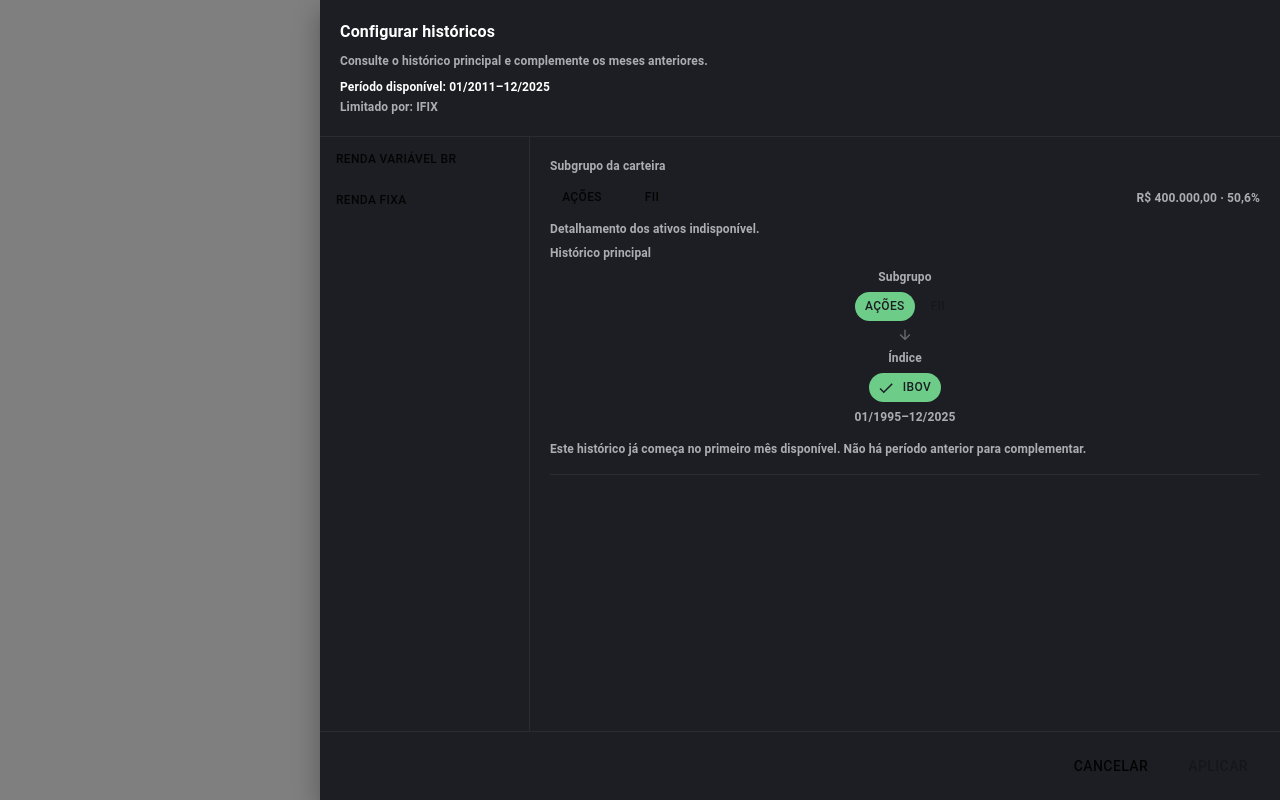
Test: groups portfolio subgroups under broad sidebar asset types
Expected: the tabs read "Renda variável BR", "Renda fixa", in this order, [328,145,521,174]; [328,186,521,215]
Expected: the button "Ações" in the row of "R$ 400.000,00 ·" is shown, [550,183,614,212]
Click the button "FII" in the row of "R$ 400.000,00 ·" at (652, 198), box [620,183,684,212]
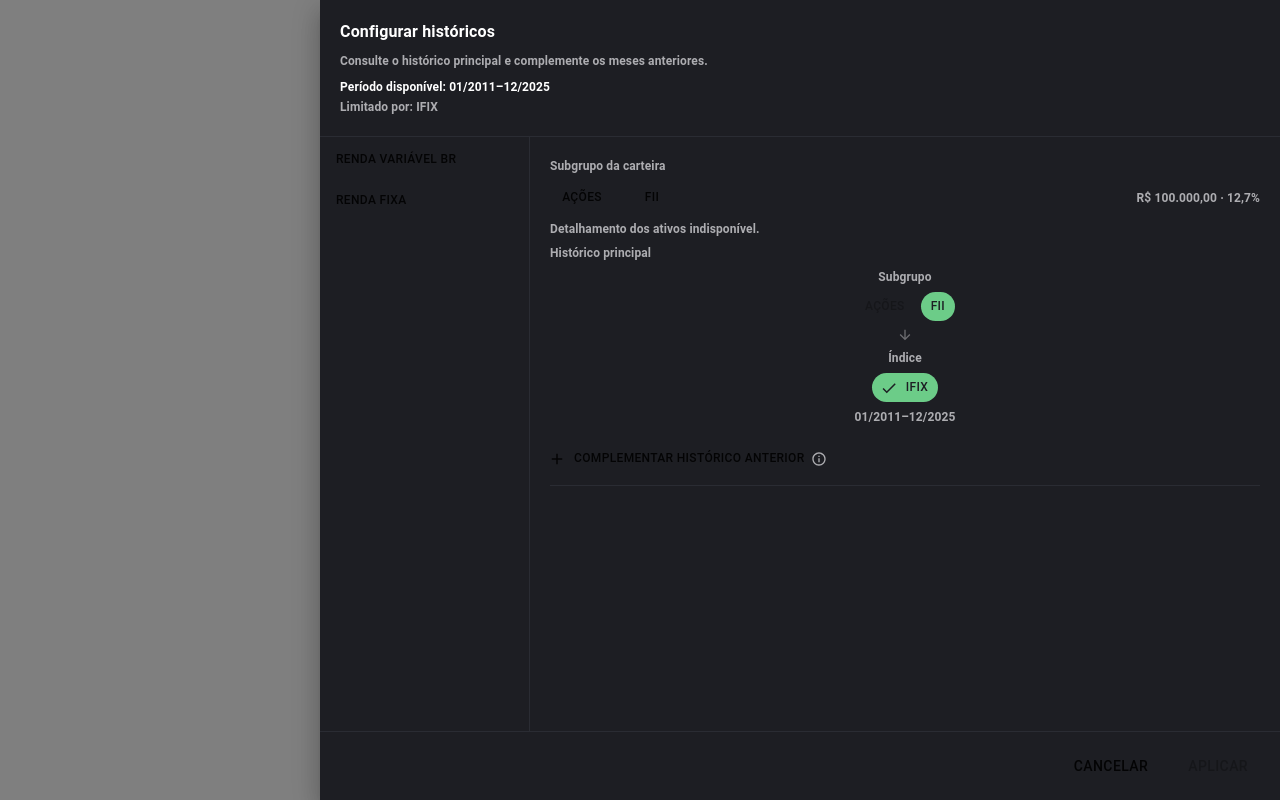
Now the element named "Histórico para FII" is shown, box [855,270,955,402]
Press Arrowdown
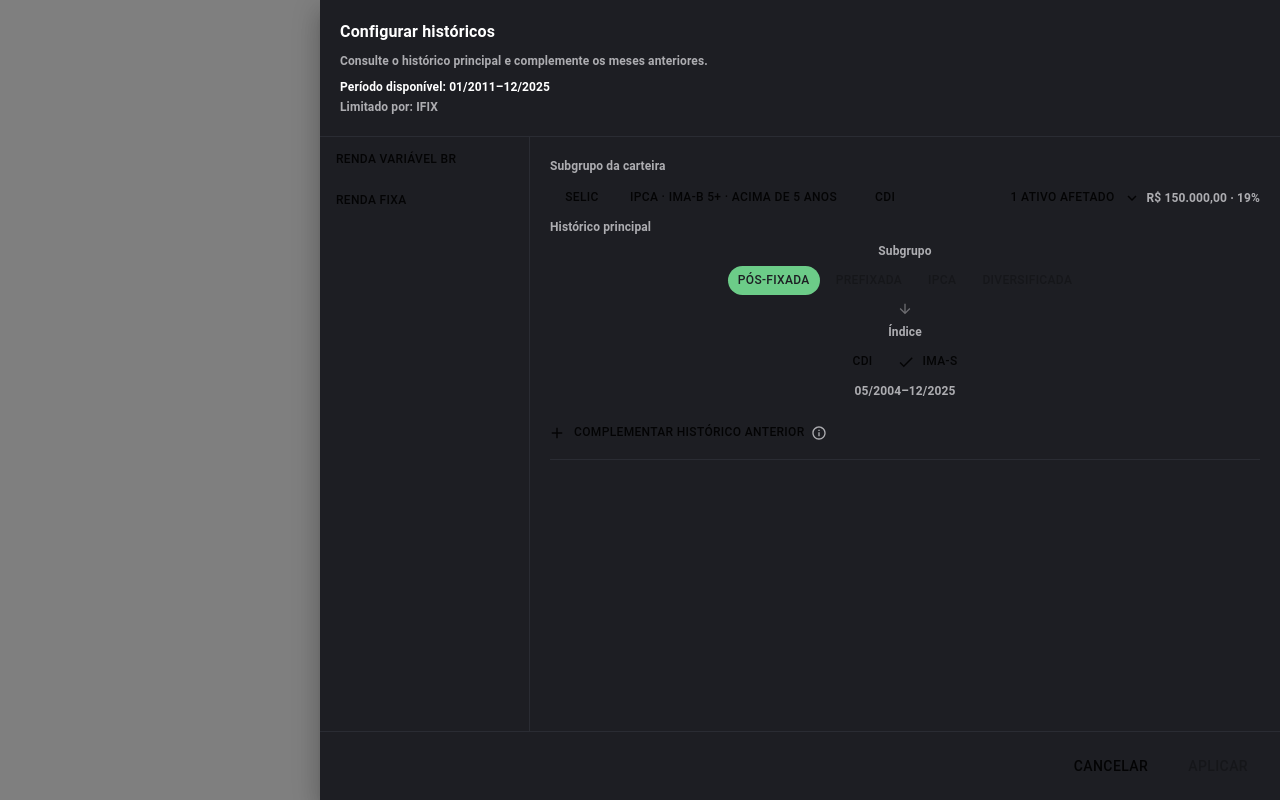
Now the button "IPCA · IMA-B 5+ · acima de 5 anos" is shown, box [620,183,847,212]
